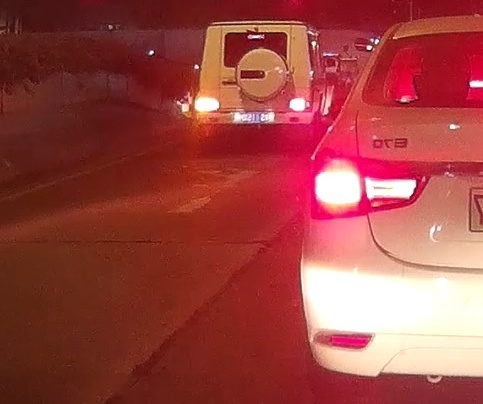L_light: (195, 96, 220, 112)
R_light: (288, 96, 311, 112)
T_light: (248, 34, 264, 40)
night-left: (193, 20, 312, 154)
